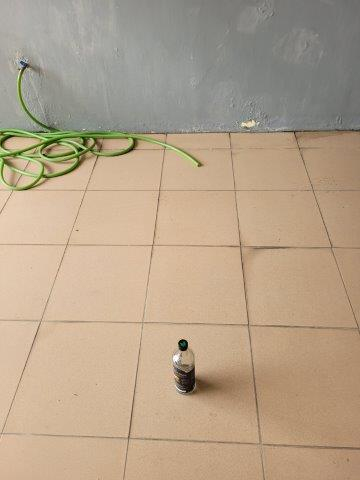botolkaca: (171, 339, 197, 396)
